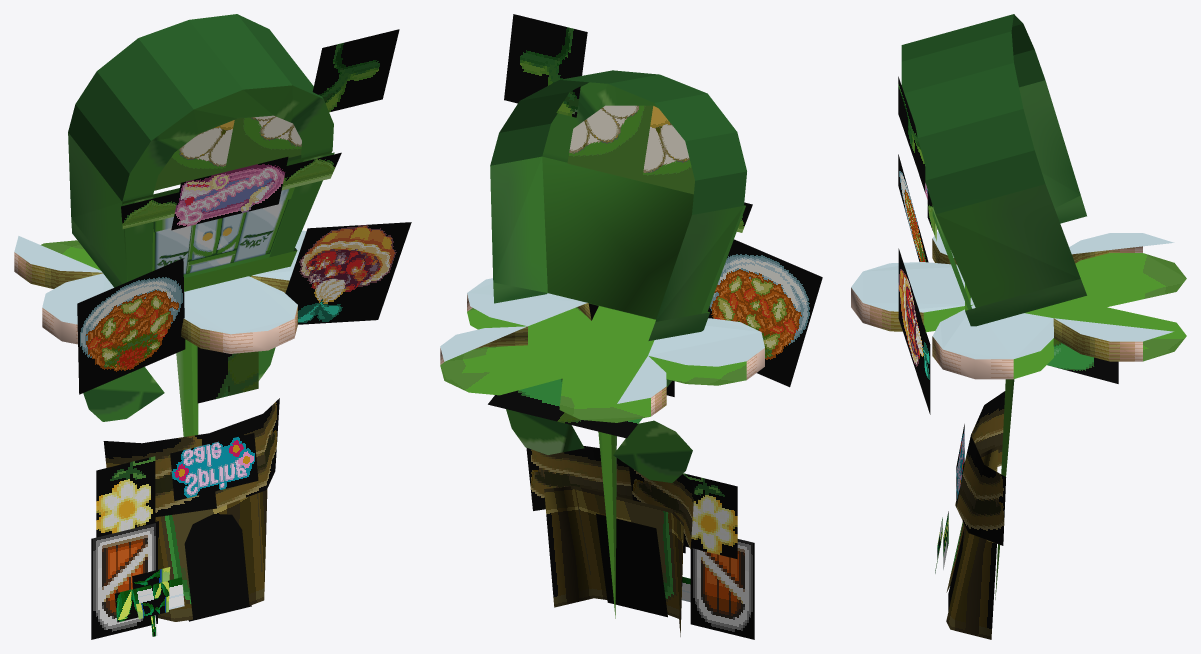
3 views of the same model, side by side, from view 1: azimuth 30°, elevation 25°; view 2: azimuth 150°, elevation 25°; view 3: azimuth 270°, elevation 25° (orthographic). The views are drawn at different scales.
Parts seen in each view (by area): view 1: tp_dai00; view 2: tp_dai00; view 3: tp_dai00.
Part boxes in pixels (bbox=[...]): tp_dai00: bbox=[14, 14, 411, 639]; tp_dai00: bbox=[440, 14, 822, 639]; tp_dai00: bbox=[851, 14, 1186, 639].
Size of the model in its own units: 4.27 by 6.97 by 3.67.
16 materials, 16 textured.
